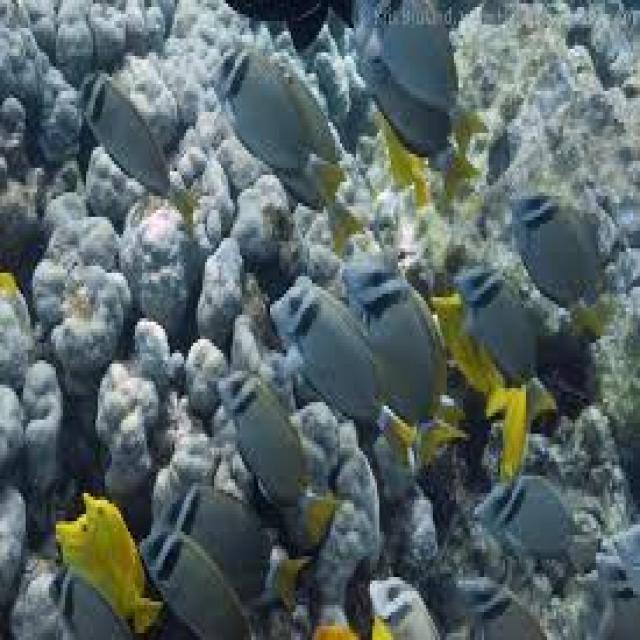YellowTang: (49, 487, 162, 639), (485, 370, 536, 486)
